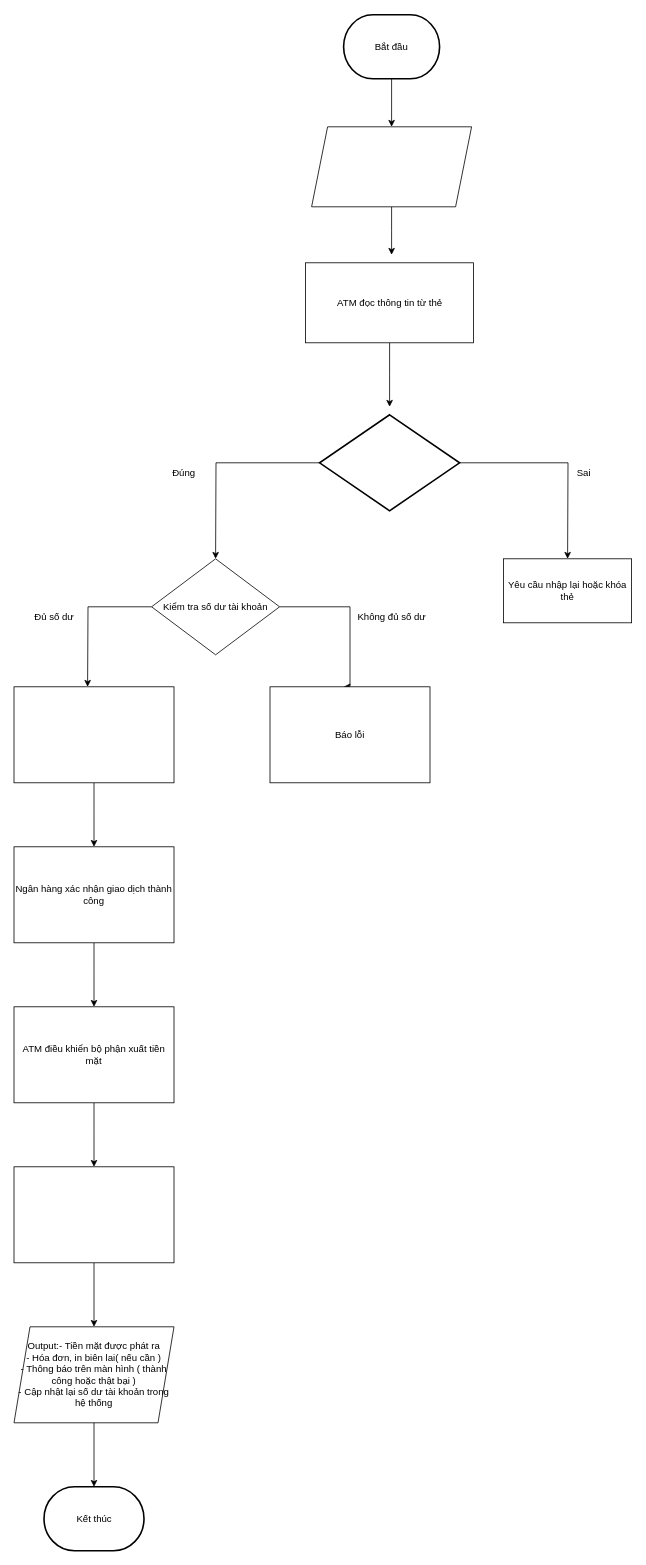
This 646x1565 diagram has some shape labels left out. Each missing label, with the centre of its shape:
"Gửi yêu cầu rút tiền đến hệ thống ngân hàng trung tâm" goes at pixel 93 734.
"Hế thống cập nhật lại số dư tài khoản" goes at pixel 93 1214.
"Input: - Thẻ ATM - Mã pin - Lệnh rút tiền - Số tiền cần rút" goes at pixel 391 166.
"Kiểm tra mã pin" goes at pixel 389 462.
